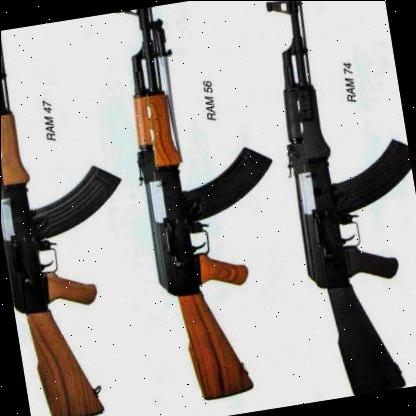rifle: (112, 0, 312, 408), (0, 14, 164, 416), (259, 0, 416, 400)
